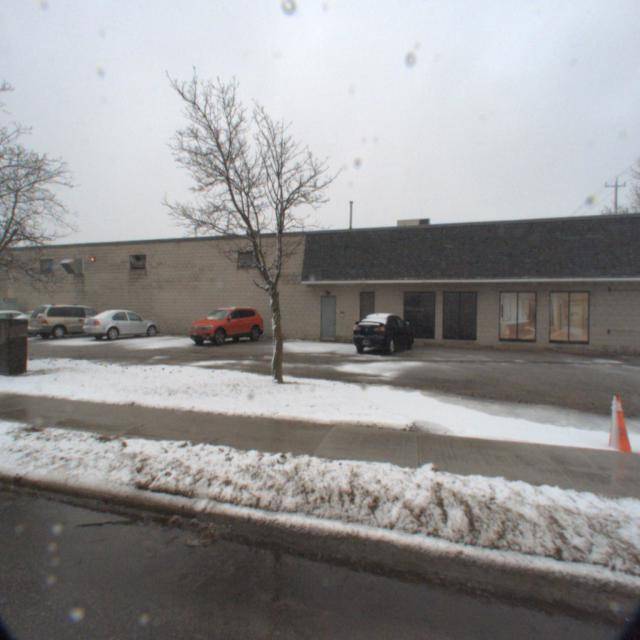Car: (181, 302, 267, 348), (18, 303, 116, 342), (345, 309, 417, 356), (74, 308, 164, 344)
